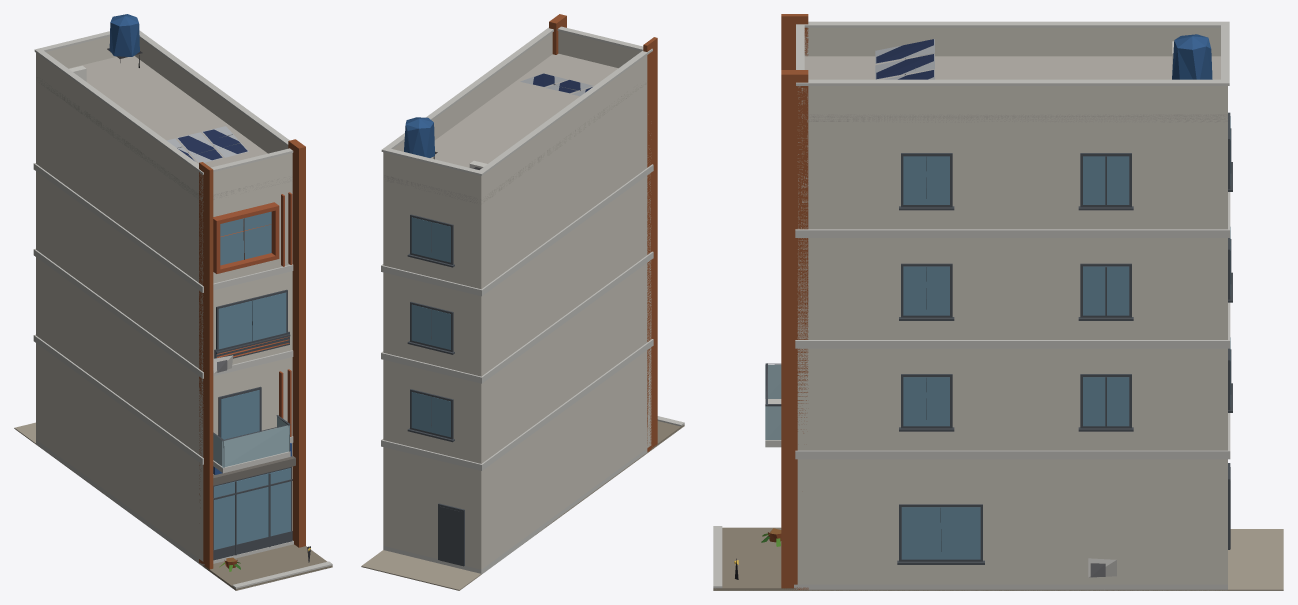
The model's file is bay2_right.glb.
The picture shows the model from 3 angles, left to right: view 1: azimuth 30°, elevation 25°; view 2: azimuth 150°, elevation 25°; view 3: azimuth 270°, elevation 25°; orthographic projection. The views are drawn at different scales.
Parts seen in each view (by area): view 1: body; view 2: body; view 3: body.
Boxes of the visible parts, x1,y1,x2,y2 form: body: [14, 14, 332, 590]; body: [361, 14, 684, 590]; body: [713, 14, 1283, 590].
Bounding box in the file's own units: 4.42 × 16.71 × 15.9.
